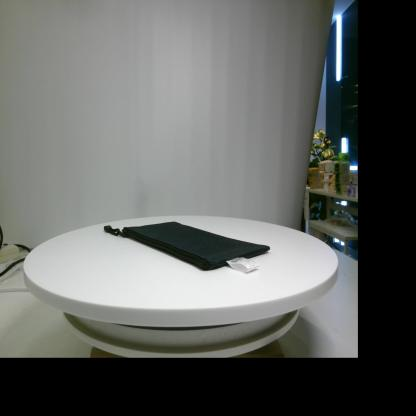Stationery: (104, 221, 270, 273)
